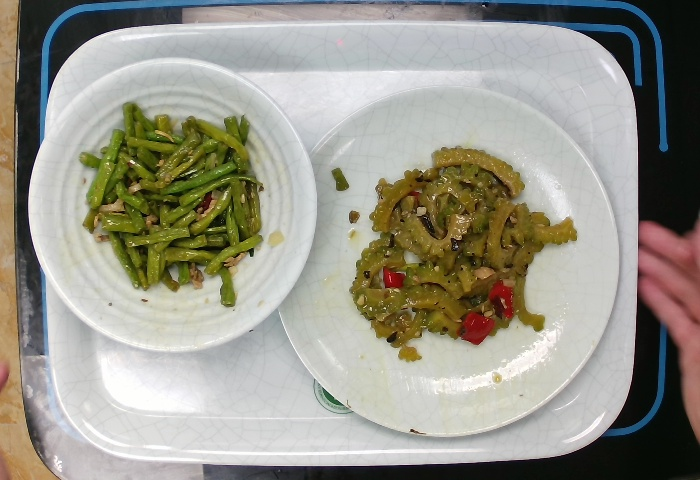JYsf-Da_Yuan_Pan: (264, 78, 626, 443)
JYsf-Xiao_Tang_Wan: (22, 53, 320, 360)
